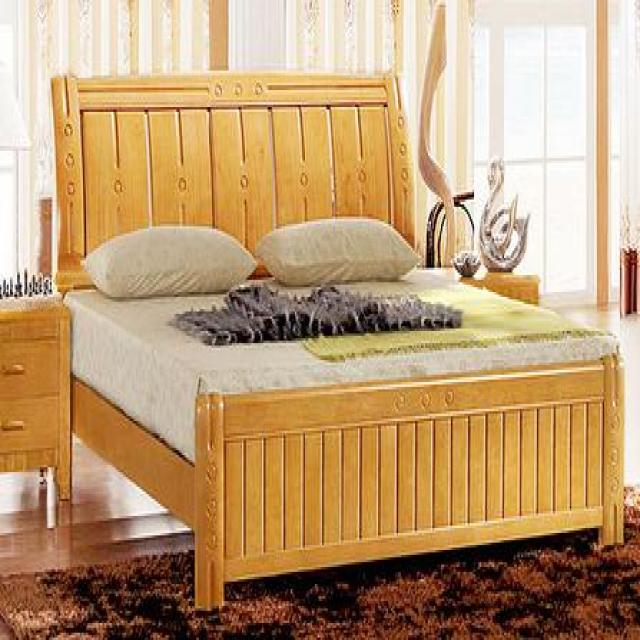bed: (49, 68, 623, 616)
